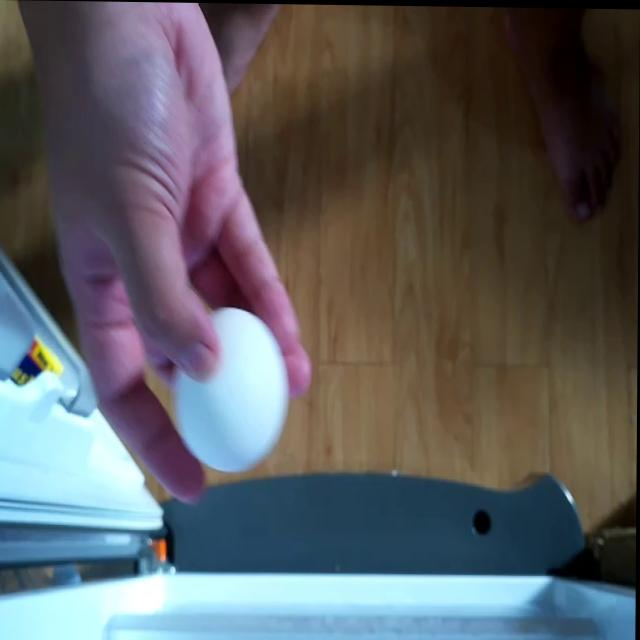egg: (168, 301, 295, 476)
